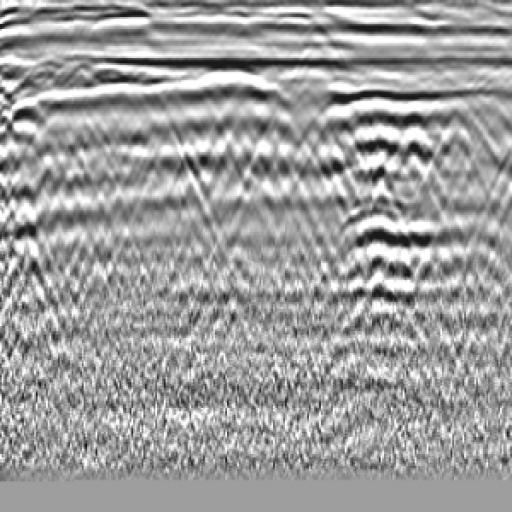non-metallic: (266, 61, 512, 361)
